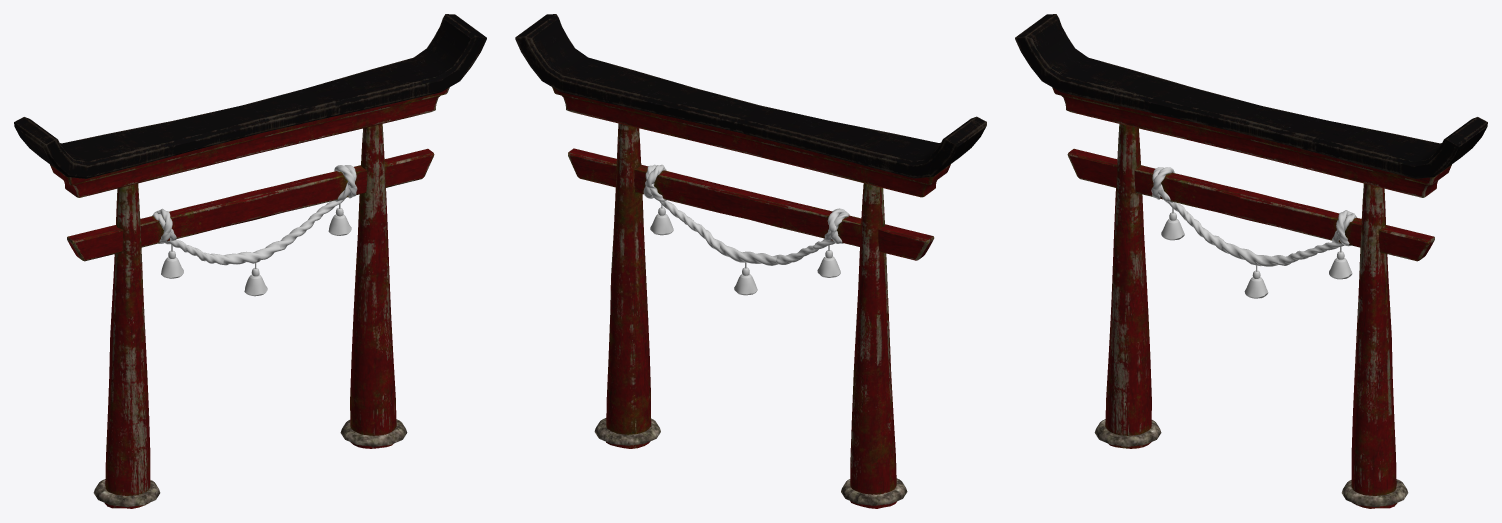
File: entrygate.fbx
The picture shows the model from 3 angles, left to right: view 1: azimuth 30°, elevation 25°; view 2: azimuth 150°, elevation 25°; view 3: azimuth 330°, elevation 25°; orthographic projection.
Parts seen in each view (by area): view 1: JinJa_2_Full, JinJa_2_Full_suzu; view 2: JinJa_2_Full, JinJa_2_Full_suzu; view 3: JinJa_2_Full, JinJa_2_Full_suzu.
Part boxes in pixels (x1,y1,x2,y2): JinJa_2_Full: (14, 14, 486, 508); JinJa_2_Full_suzu: (152, 165, 357, 296); JinJa_2_Full: (515, 14, 986, 508); JinJa_2_Full_suzu: (643, 164, 849, 295); JinJa_2_Full: (1015, 14, 1487, 508); JinJa_2_Full_suzu: (1151, 167, 1357, 298).
Bounding box in the file's own units: 113 × 95.55 × 14.68.
